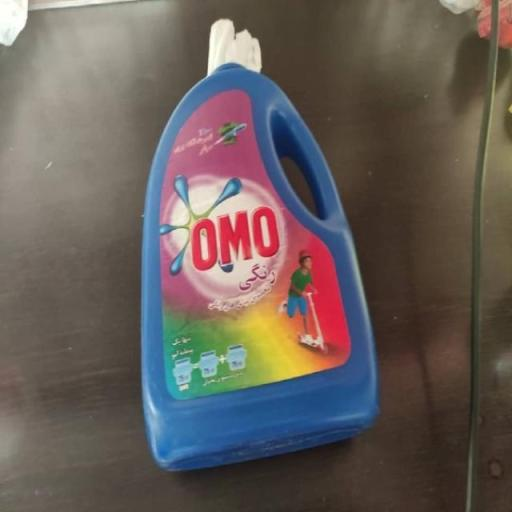plastic: (138, 18, 386, 476)
